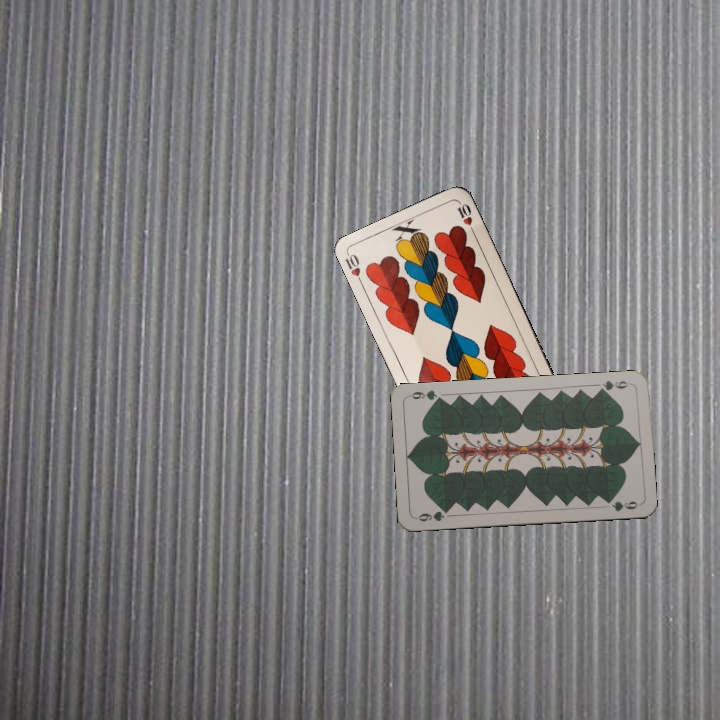G9: (412, 505, 452, 524), (594, 377, 630, 395)
H10: (341, 250, 366, 289)
